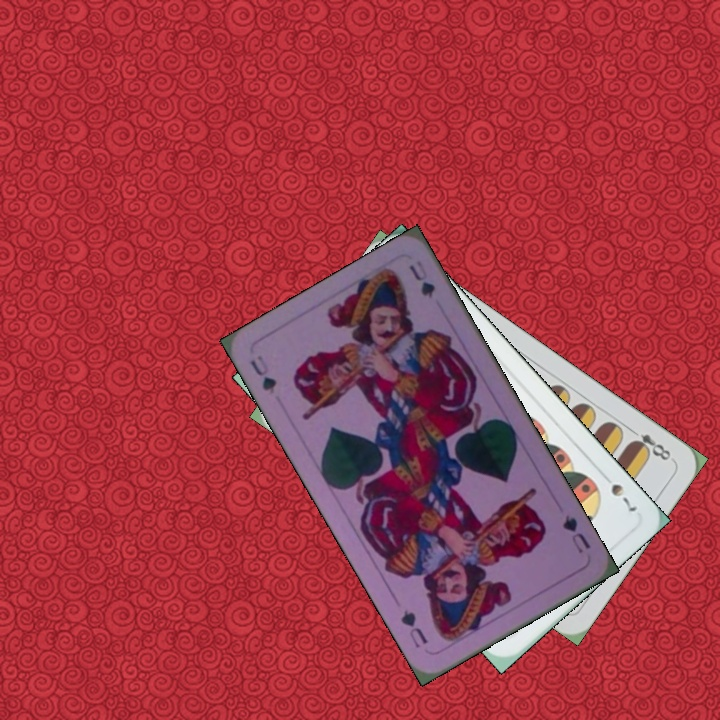E8: (625, 423, 674, 463)
GU: (558, 511, 594, 556), (246, 351, 280, 397)
S7: (596, 467, 640, 515)
